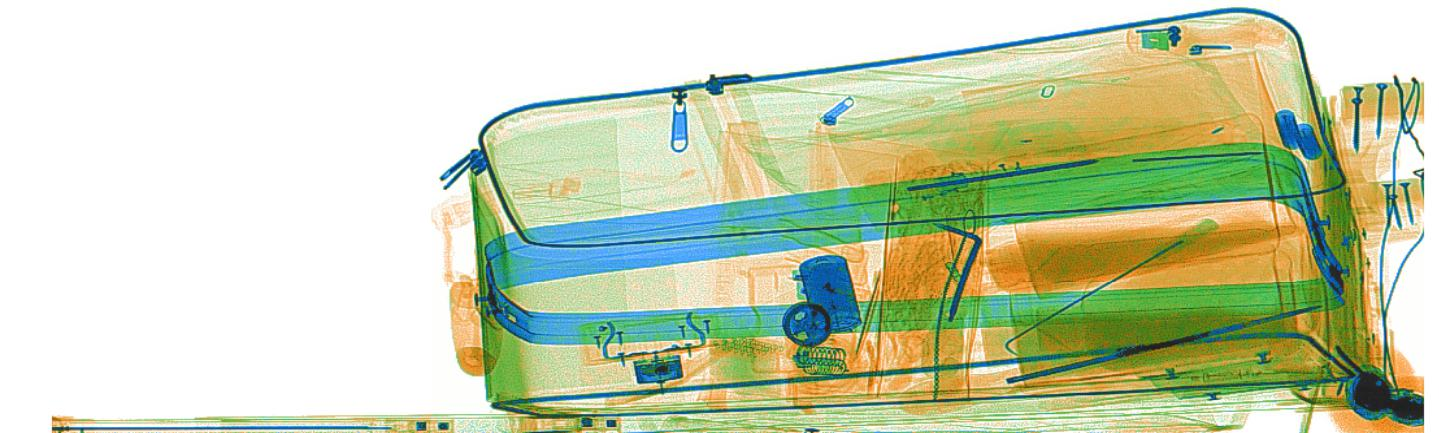battery: (799, 255, 858, 338), (1274, 105, 1324, 161)
